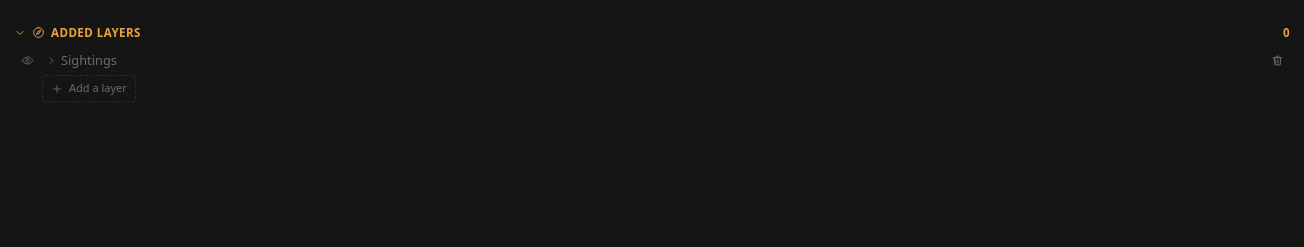
Scenario: finding a pin › keeps the box in sight on a layer that is switched off, saying to turn it on
Click the button with class "fold".
click(89, 60)  # box x1=46 y1=49 x2=1262 y2=72
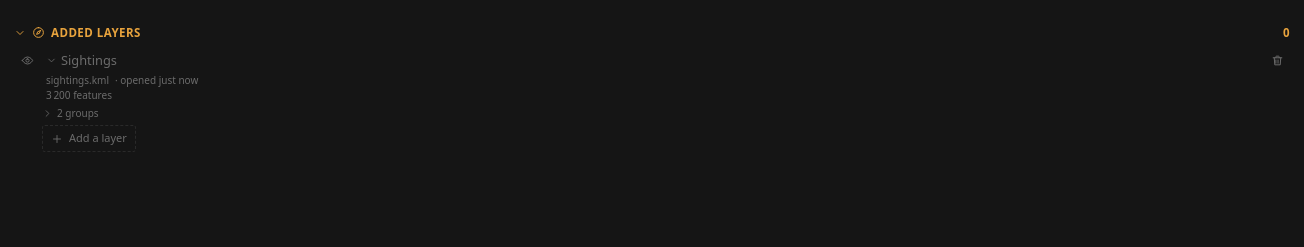
Click the button with class "legend-head".
click(57, 113)  # box x1=16 y1=103 x2=99 y2=123
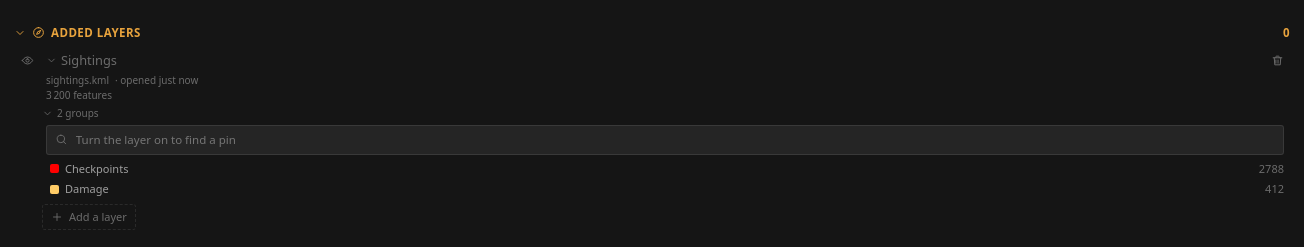
Result: the field with placeholder "Turn the layer on to find a pin" is disabled at x1=74 y1=130 x2=1275 y2=150
